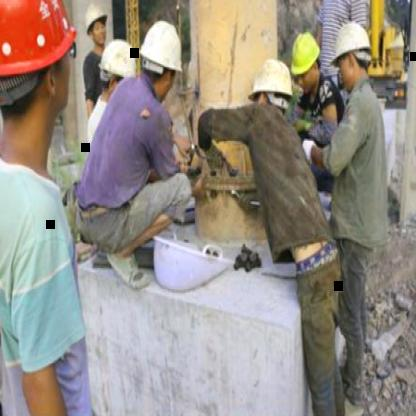helmet: (0, 0, 83, 87), (136, 17, 188, 77), (238, 56, 298, 107), (331, 14, 374, 74), (288, 30, 326, 82), (84, 0, 108, 39)
